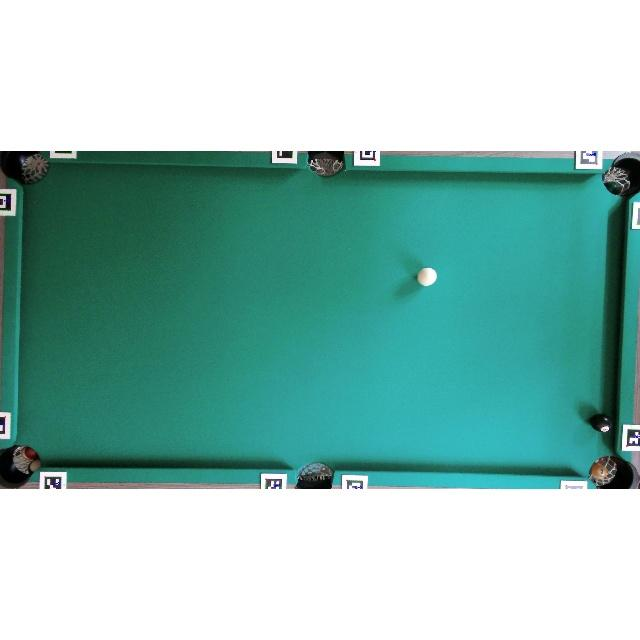cue ball: (417, 268, 437, 286)
other: (590, 414, 612, 434)
